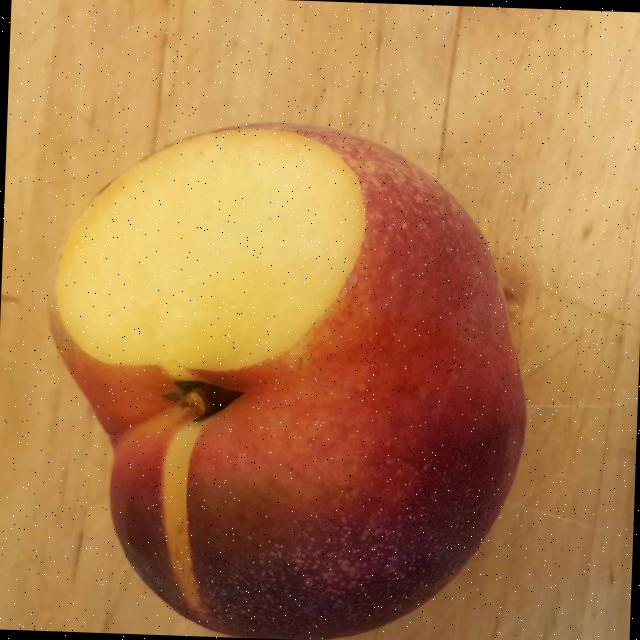peach: (58, 137, 513, 633)
